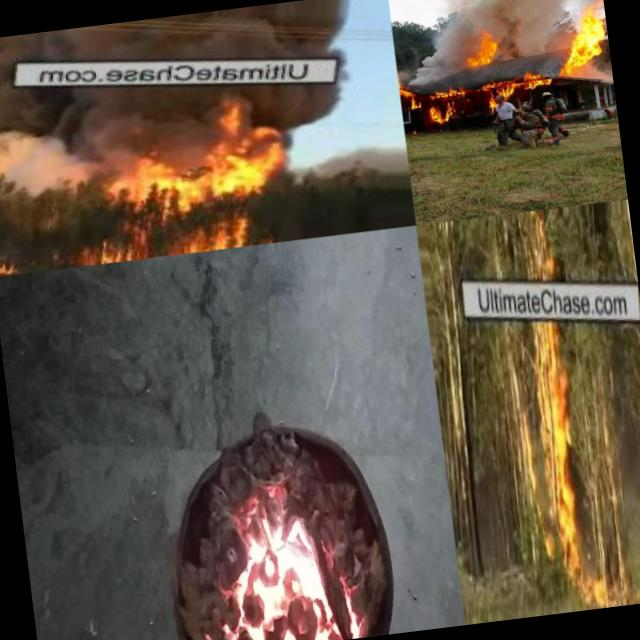fire: (197, 468, 366, 640), (519, 335, 586, 564), (128, 112, 287, 200), (170, 216, 254, 251), (74, 232, 148, 263), (479, 70, 552, 96), (422, 86, 471, 123), (466, 24, 502, 68), (398, 76, 422, 113), (0, 257, 17, 271), (562, 71, 564, 72)
smoke: (0, 87, 133, 199), (407, 18, 474, 86), (490, 0, 570, 56), (570, 60, 614, 94), (430, 0, 495, 21)
